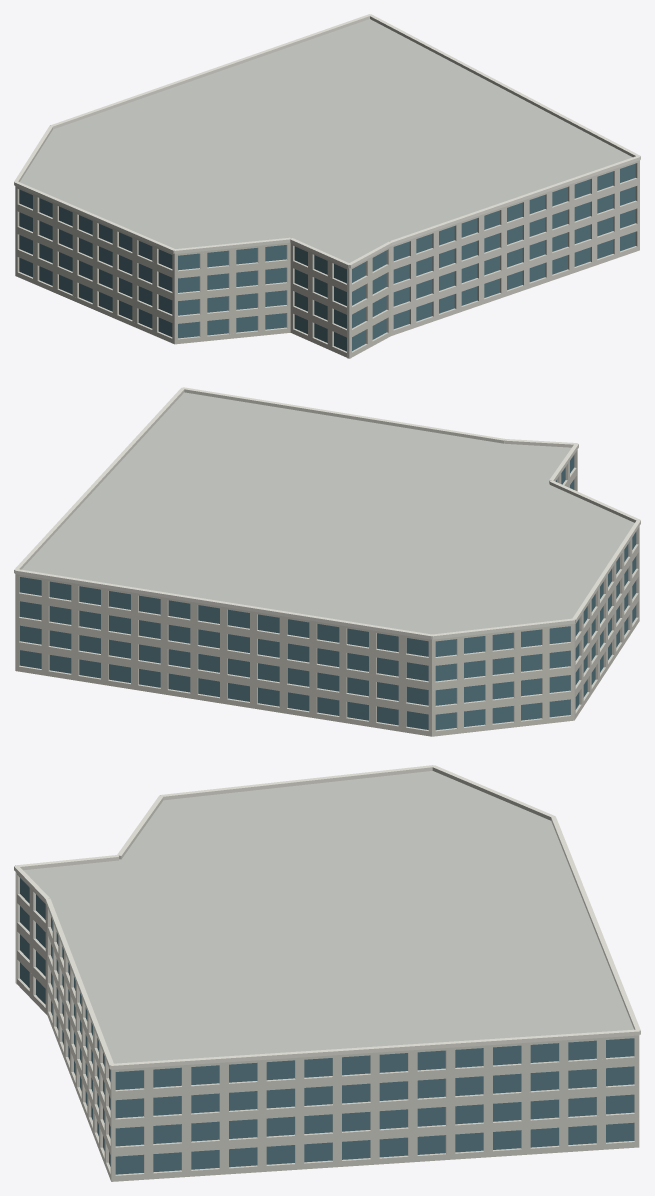
Rendered from sb_1556514393.far.glb.
3 views of the same model, one above another, from view 1: azimuth 30°, elevation 25°; view 2: azimuth 150°, elevation 25°; view 3: azimuth 270°, elevation 25° (orthographic). The views are drawn at different scales.
Visible parts, largest first — view 1: roof, wall, glass, trim; view 2: roof, wall, glass, trim; view 3: roof, wall, glass, trim.
Part boxes in pixels (<box>): roof: <box>20,19,632,262</box>; wall: <box>15,160,639,358</box>; glass: <box>19,163,635,351</box>; trim: <box>14,14,640,268</box>; roof: <box>22,392,634,634</box>; wall: <box>15,449,639,736</box>; glass: <box>19,455,636,730</box>; trim: <box>14,387,640,639</box>; roof: <box>23,771,633,1063</box>; wall: <box>15,872,639,1181</box>; glass: <box>20,878,634,1174</box>; trim: <box>14,765,640,1069</box>.
Bounding box in the file's own units: 72.11 × 13.04 × 63.49.
